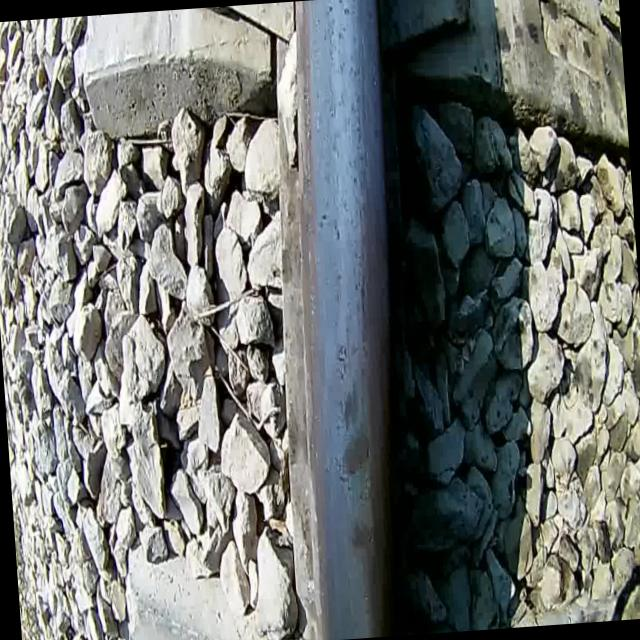Squats: (338, 428, 381, 484), (340, 510, 382, 559), (336, 372, 366, 433)
